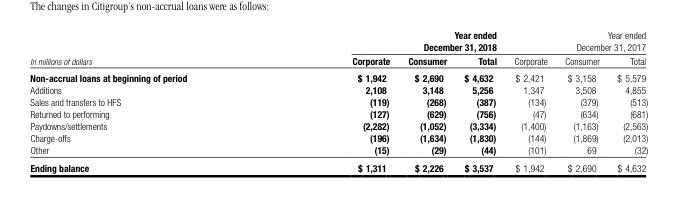table: (29, 28, 647, 173)
table column: (29, 28, 268, 173), (268, 28, 398, 173), (398, 28, 454, 173), (555, 28, 607, 173), (504, 28, 555, 173), (454, 28, 504, 173), (607, 28, 647, 173)
table column header: (29, 28, 647, 69)
table row: (29, 28, 647, 53), (29, 53, 647, 69), (29, 143, 647, 158), (29, 158, 647, 173), (29, 69, 647, 83), (29, 83, 647, 95), (29, 95, 647, 107), (29, 107, 647, 119), (29, 119, 647, 131), (29, 131, 647, 143)
table spanning cell: (29, 28, 268, 69), (268, 28, 504, 53), (504, 28, 647, 53)
